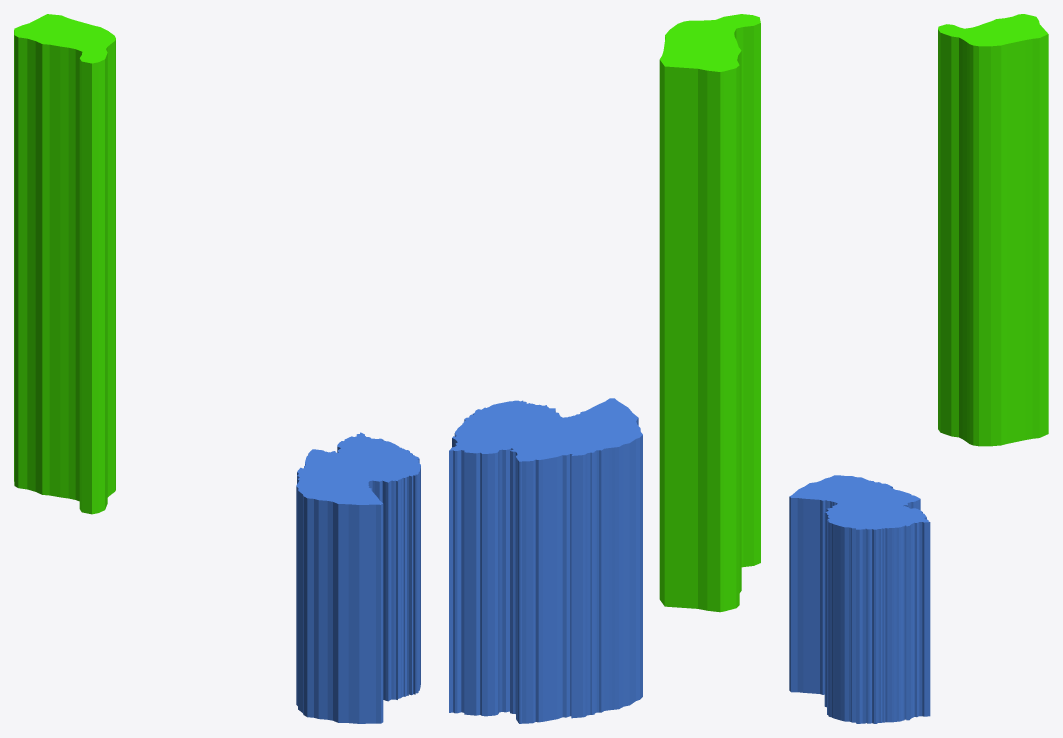
The model's file is wood_area0108.dae.
3 views of the same model, side by side, from view 1: azimuth 30°, elevation 25°; view 2: azimuth 150°, elevation 25°; view 3: azimuth 270°, elevation 25° (orthographic). The views are drawn at different scales.
Visible parts, largest first — view 1: Object_005, Object_001; view 2: Object_001, Object_005; view 3: Object_005, Object_001.
Part boxes in pixels (x1=…): Object_005: x1=14, y1=14, x2=115, y2=514; Object_001: x1=296, y1=432, x2=420, y2=723; Object_001: x1=449, y1=398, x2=642, y2=723; Object_005: x1=659, y1=14, x2=760, y2=612; Object_005: x1=938, y1=14, x2=1048, y2=446; Object_001: x1=789, y1=475, x2=930, y2=723.
Size of the model in its own units: 267 by 217 by 532.
